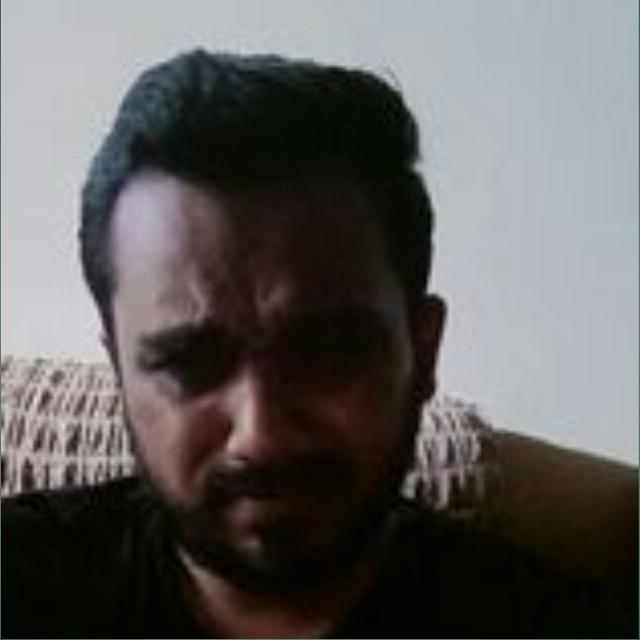Sad: (59, 170, 445, 562)
